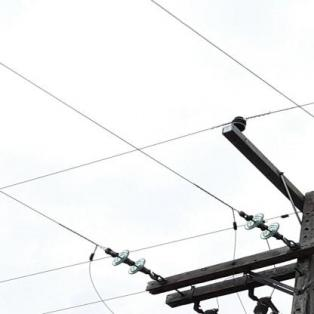Poste: (246, 188, 314, 314)
